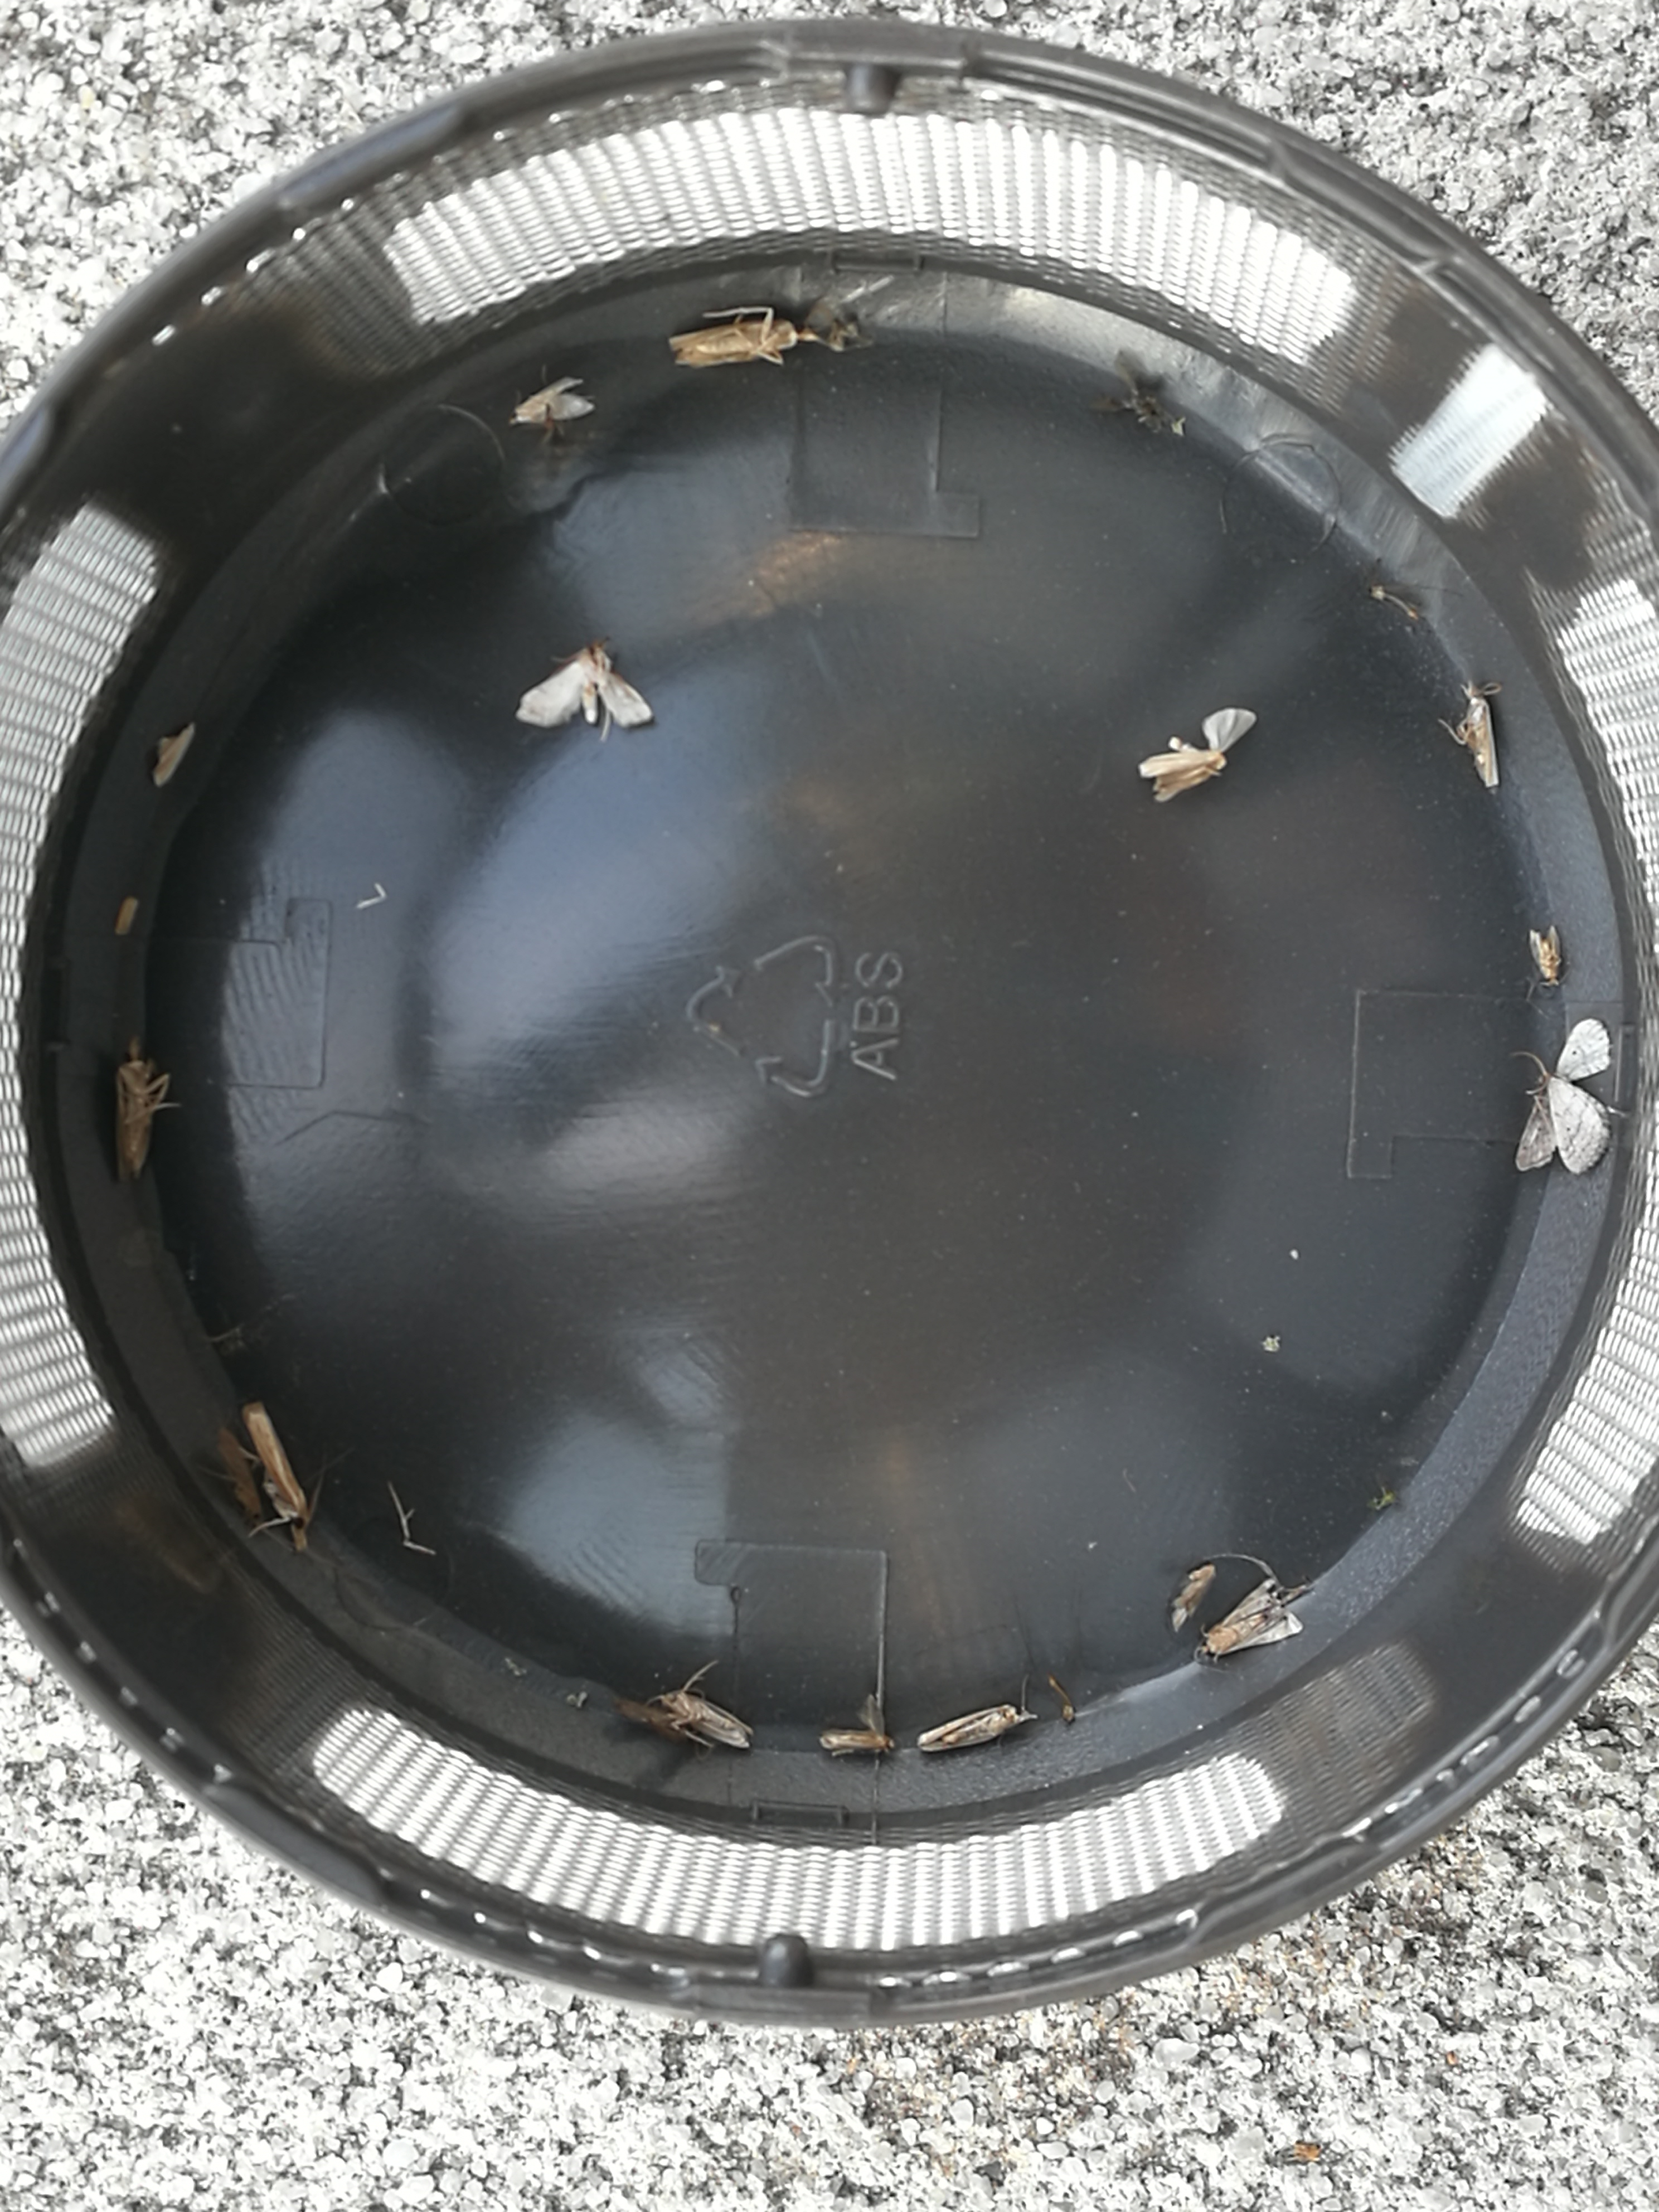mosquito: (244, 1402, 307, 1540), (669, 319, 796, 366), (664, 1691, 755, 1750), (211, 1426, 261, 1524), (918, 1705, 1018, 1752), (117, 1059, 152, 1183), (1464, 683, 1499, 786), (823, 1730, 892, 1756), (1530, 925, 1560, 986), (617, 1700, 674, 1731)
moth: (1513, 1019, 1610, 1172), (516, 648, 653, 728), (1140, 705, 1256, 799), (1202, 1578, 1303, 1658), (514, 376, 596, 423)
